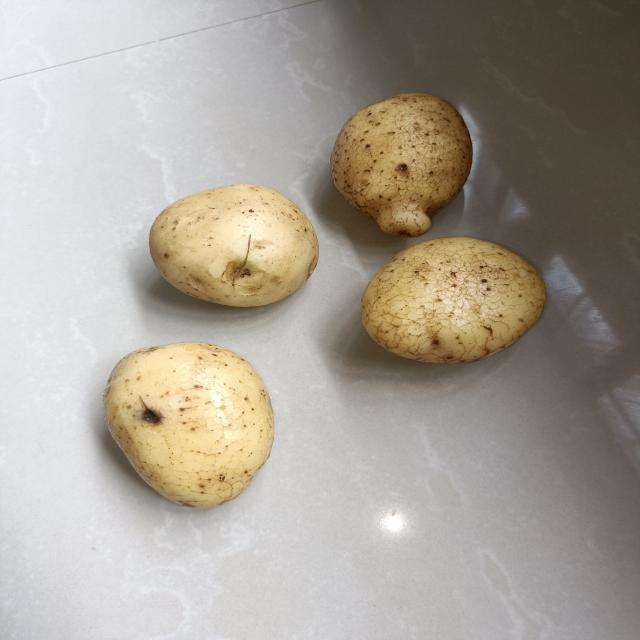potato: (96, 341, 280, 515), (136, 176, 324, 315), (356, 237, 552, 369), (325, 88, 477, 240)
